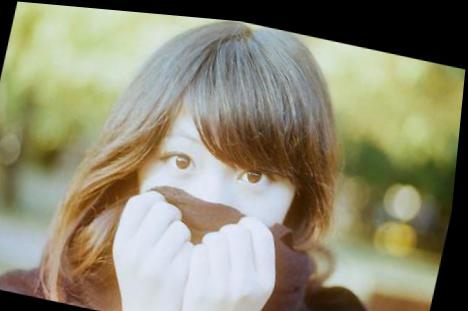WRONG: (138, 108, 316, 286)
